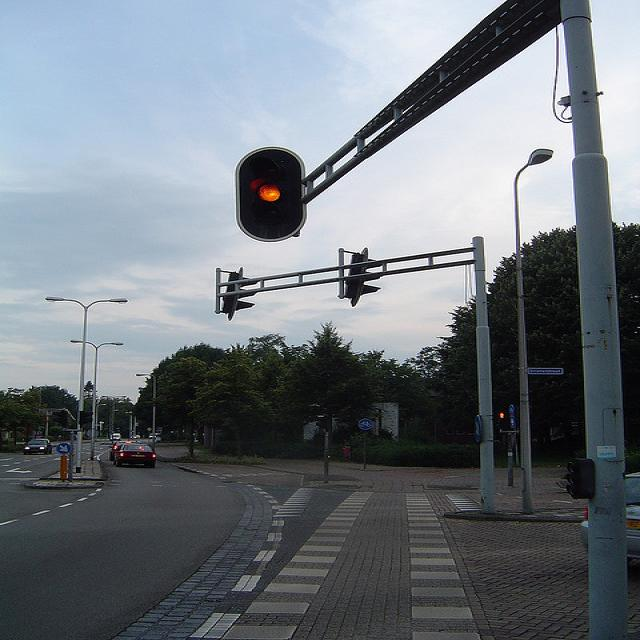Vehicle: (581, 504, 639, 562), (110, 443, 156, 468), (23, 438, 52, 454), (114, 433, 122, 440)
